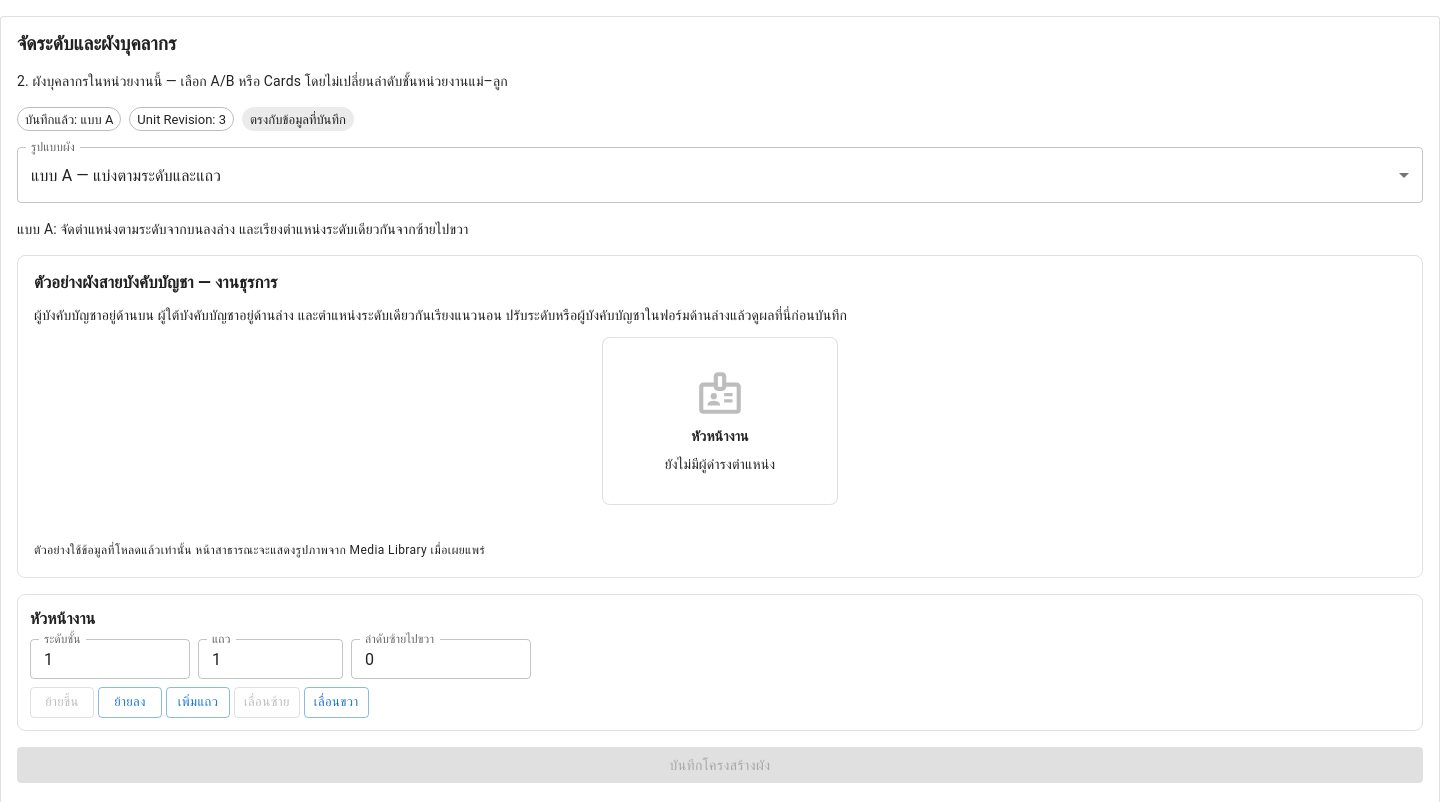
it: Organization Chart layout audited save feedback › reports committed saves as successful even when revision refresh fails
The image size is (1440, 802).
Replace the text in the number field labelled "ระดับชั้น" with "2": (110, 659) [30, 639, 190, 679]
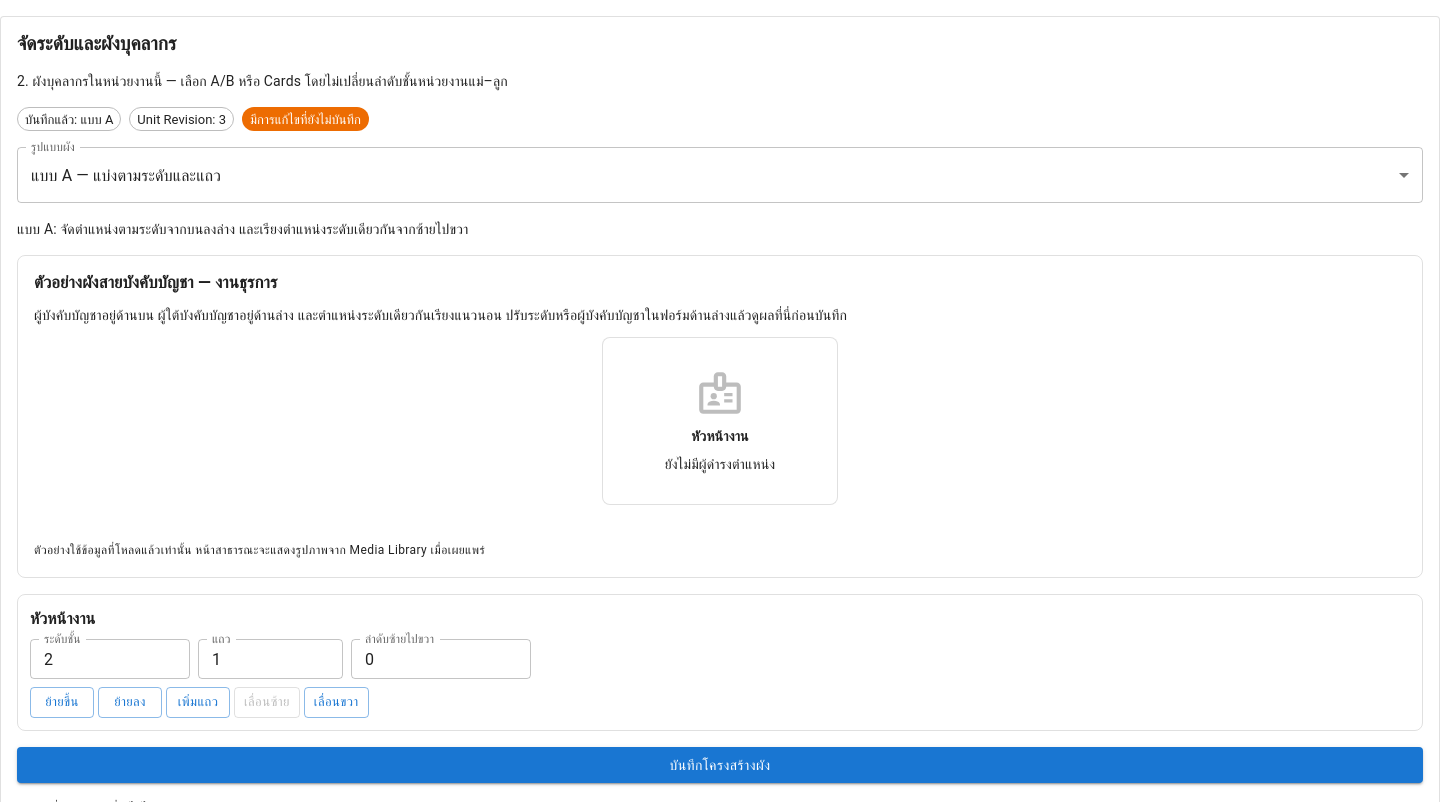
Click the button "บันทึกโครงสร้างผัง": click(720, 765) [17, 747, 1423, 783]
(page scrolled)
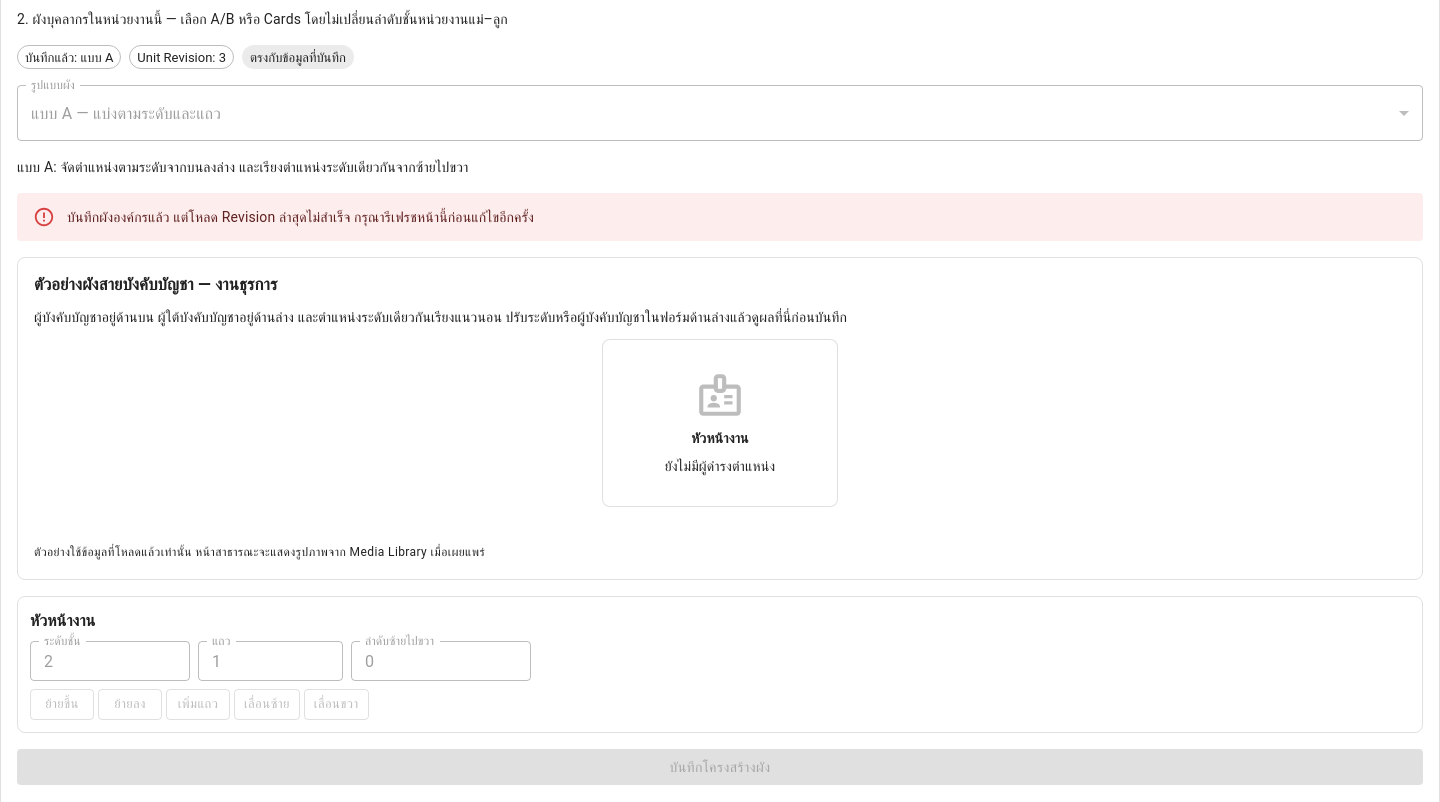
Expected: the 2nd message shows "บันทึกผังองค์กรแล้ว แต่โหลด Revision ล่าสุดไม่สำเร็จ", [67, 209, 534, 225]
Expected: the button "บันทึกโครงสร้างผัง" is disabled, [17, 749, 1423, 785]
